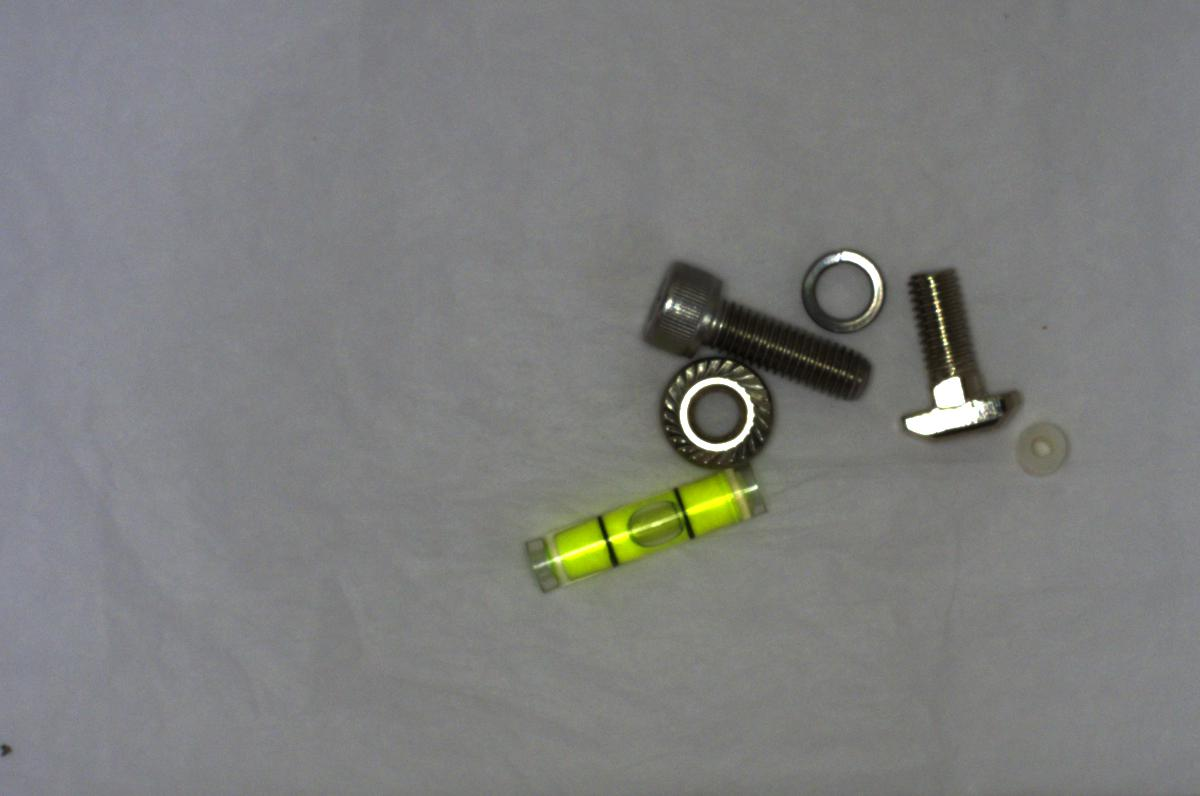Flange nut: (653, 348, 783, 473)
Hexagon screw: (638, 249, 878, 401)
Horizontal bubble: (514, 460, 773, 610)
Plastic cushion pillar: (1011, 412, 1074, 482)
Spring washer: (788, 237, 887, 341)
T-shaped screw: (892, 265, 1030, 437)
